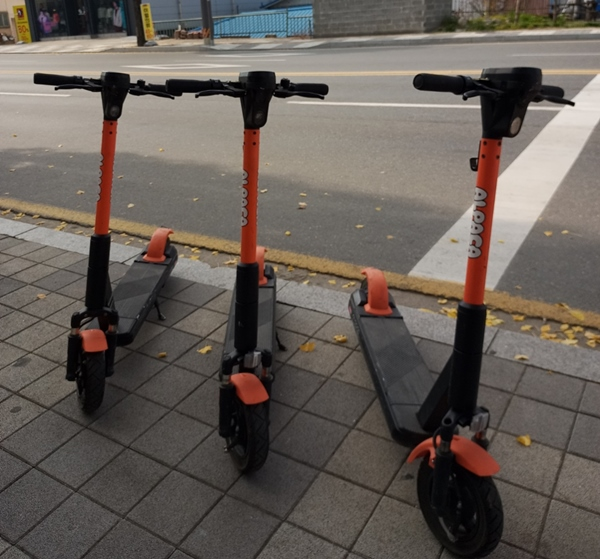kick_board: (351, 67, 576, 559), (167, 72, 329, 470), (32, 72, 177, 415)
kick_body: (367, 320, 434, 424), (233, 286, 273, 360)
kick_handler: (410, 66, 574, 132), (167, 69, 328, 120), (31, 72, 180, 114)
kick_neck: (463, 143, 503, 412), (235, 129, 262, 349), (88, 120, 117, 313)
kick_wheel: (410, 438, 502, 558), (224, 372, 269, 470), (71, 325, 106, 408)
